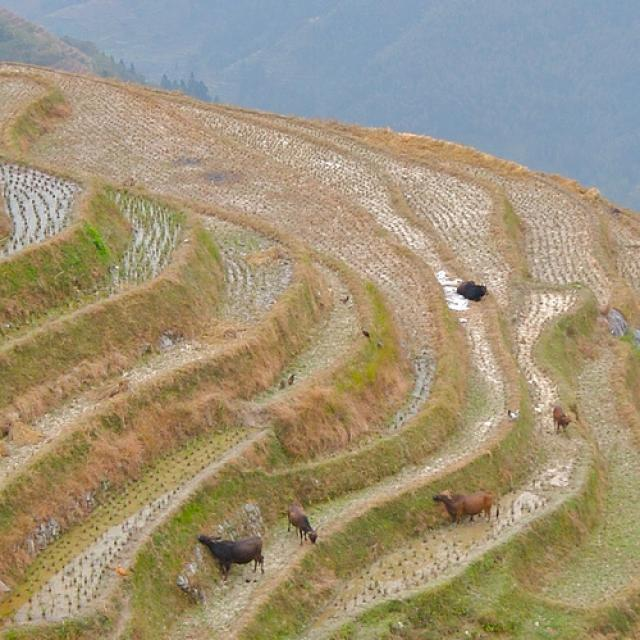cow: (196, 534, 264, 575), (429, 485, 500, 521), (284, 503, 315, 545), (455, 276, 487, 300), (551, 403, 573, 432)
